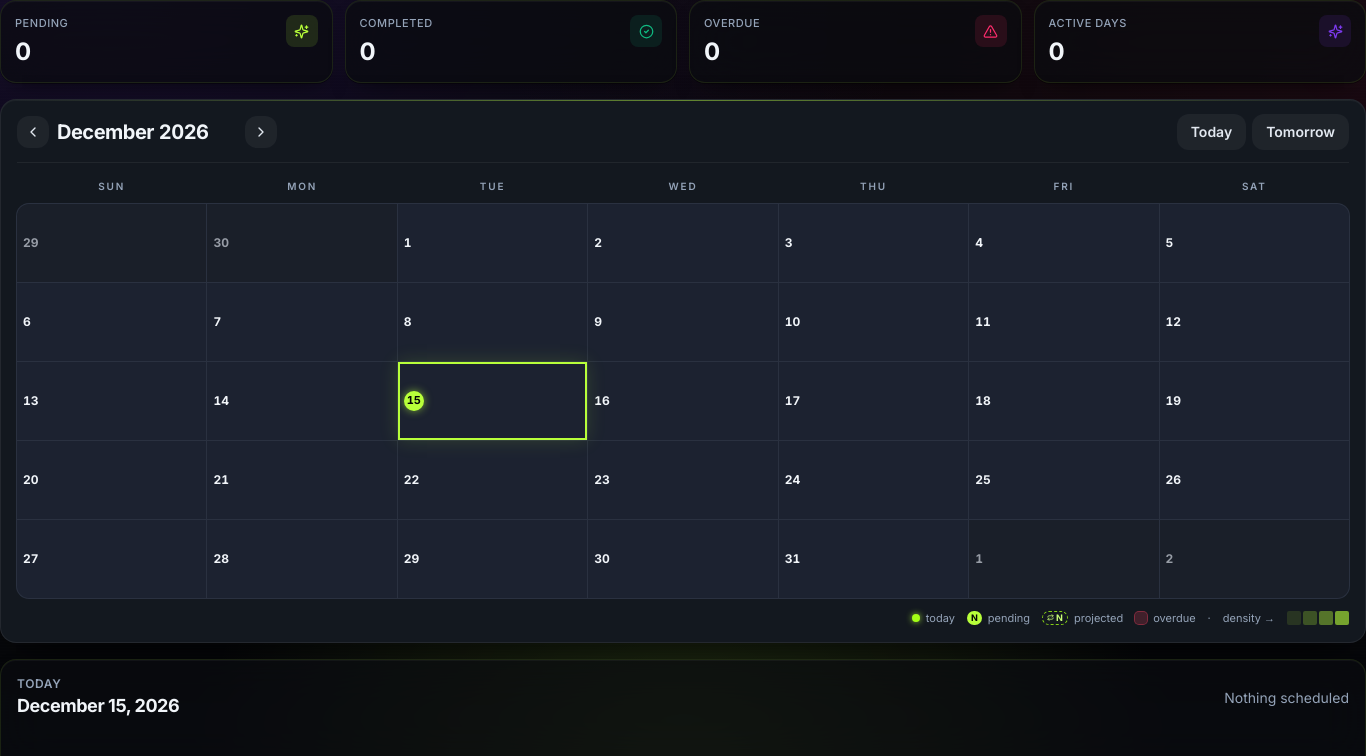
Test case: Calendar · navigation › Next button wraps year on December → January
Click the button titled "Next month". click: point(261, 132)
box: [245,116,277,148]
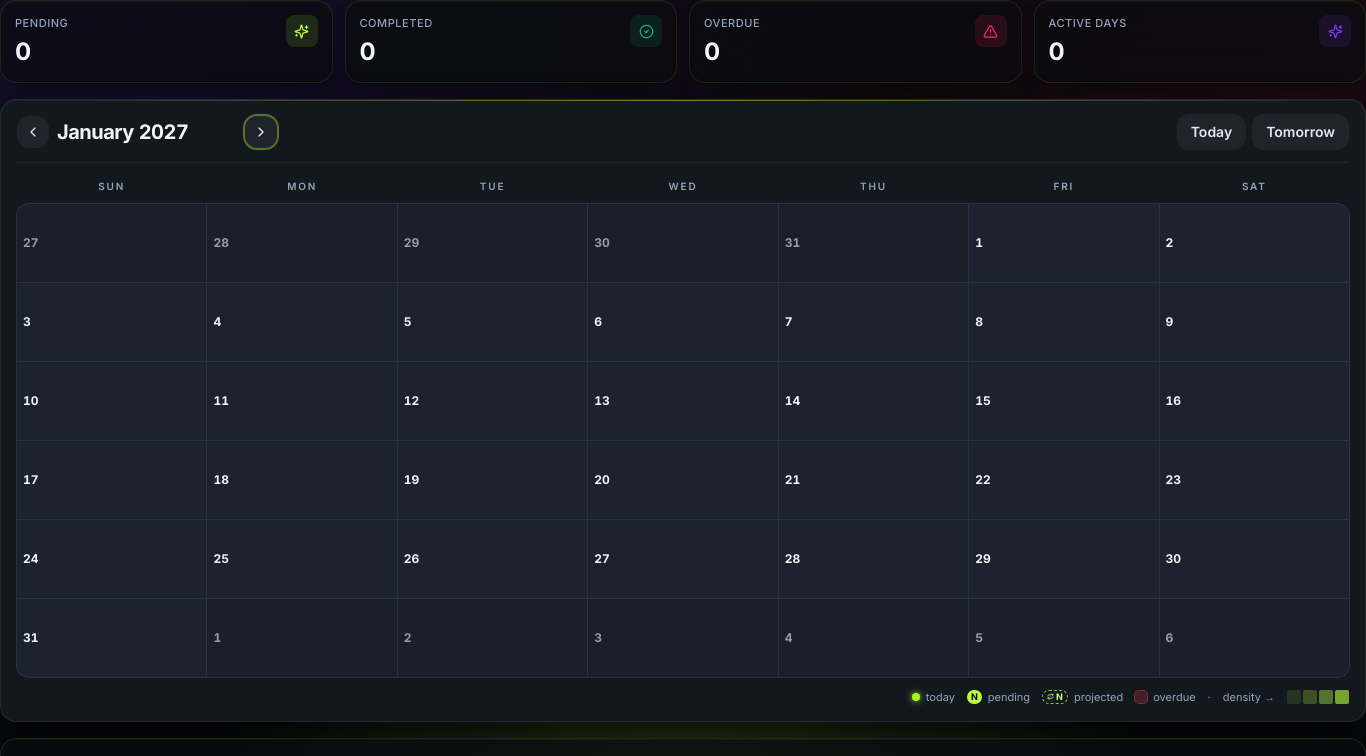
Expected: the heading "January 2027" is shown, [57,120,188,144]
